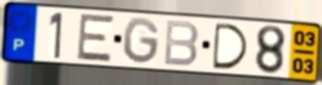1: (48, 11, 64, 61)
8: (254, 24, 287, 76)
B: (162, 18, 201, 68)
D: (211, 21, 251, 71)
E: (75, 12, 117, 64)
G: (122, 16, 162, 66)
